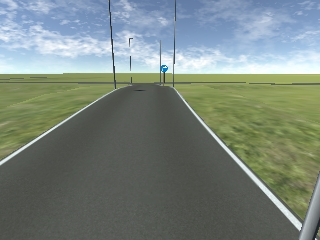right: (159, 64, 169, 74)
